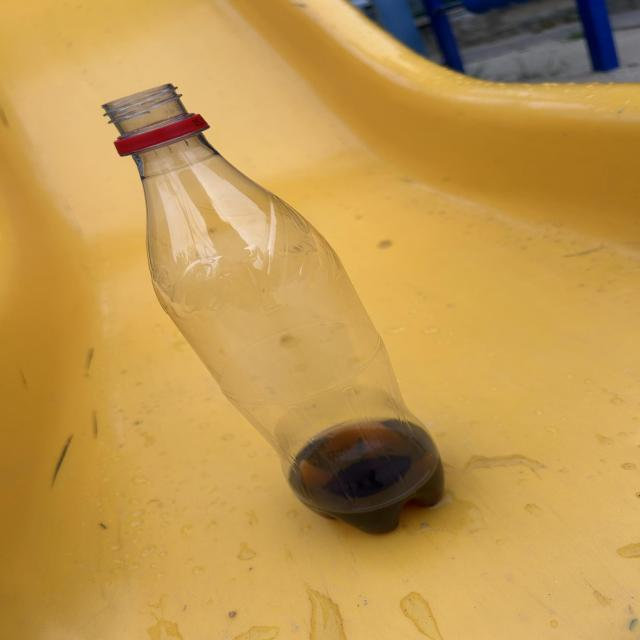low: (103, 84, 444, 533)
